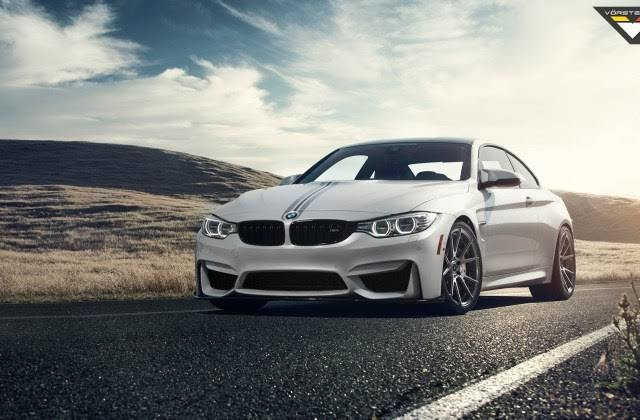audi: (182, 132, 583, 320)
